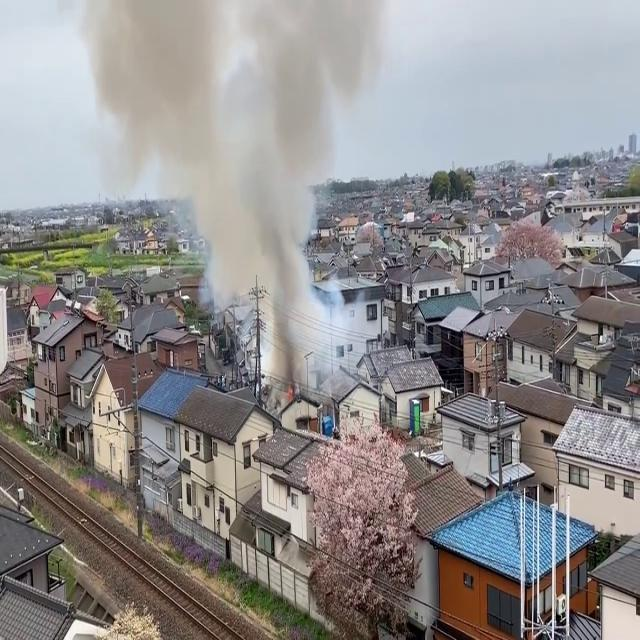Smoke: (75, 0, 362, 391)
